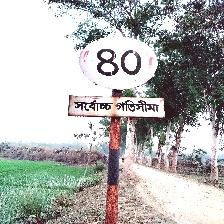Speed-limit: (70, 31, 163, 117)
